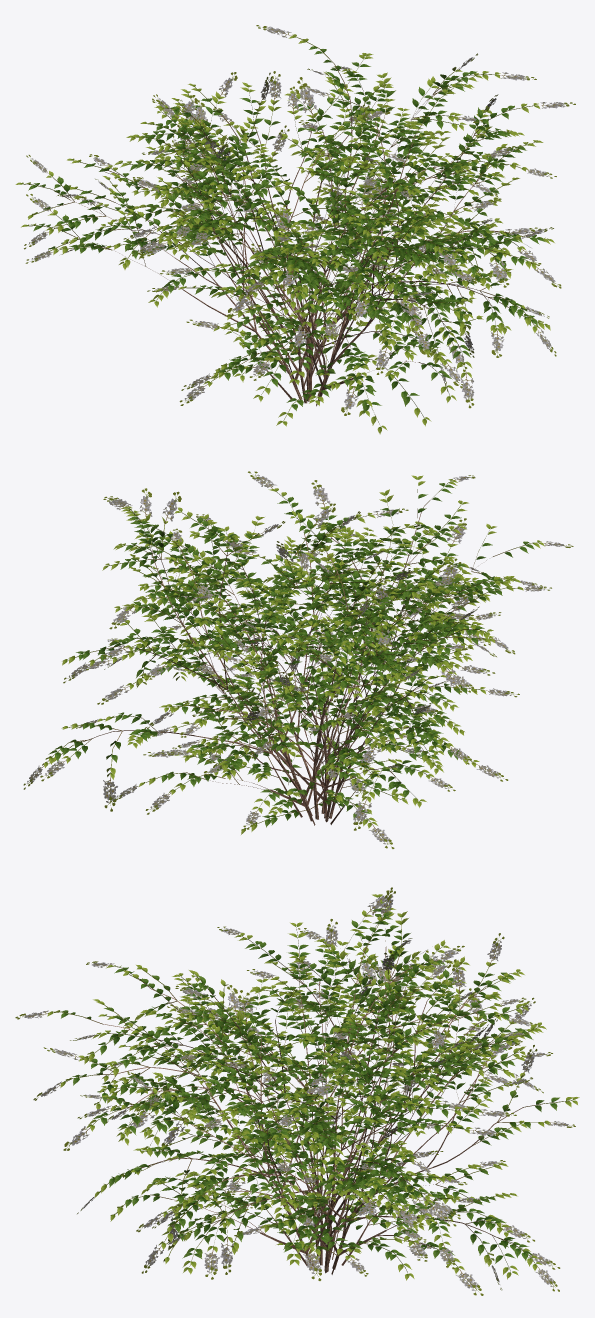
The model's file is Philadelphus coronarius003_LOW.FBX.
The picture shows the model from 3 angles, top to bottom: view 1: azimuth 30°, elevation 25°; view 2: azimuth 150°, elevation 25°; view 3: azimuth 270°, elevation 25°; orthographic projection. The views are drawn at different scales.
Visible parts, largest first — view 1: Philadelphus coronarius003_LOW; view 2: Philadelphus coronarius003_LOW; view 3: Philadelphus coronarius003_LOW.
Part boxes in pixels (x1,y1,x2,y2): Philadelphus coronarius003_LOW: (15,25,575,434); Philadelphus coronarius003_LOW: (23,471,573,848); Philadelphus coronarius003_LOW: (15,887,579,1295).
Size of the model in its own units: 2528 by 1631 by 2545.
